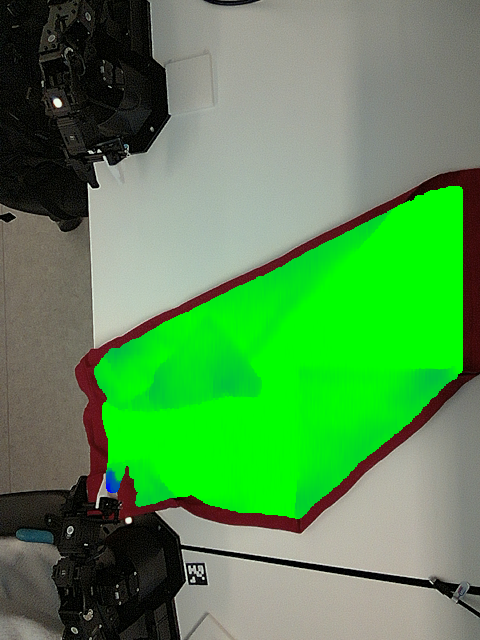V: (288, 352, 329, 405), (190, 312, 235, 353)
